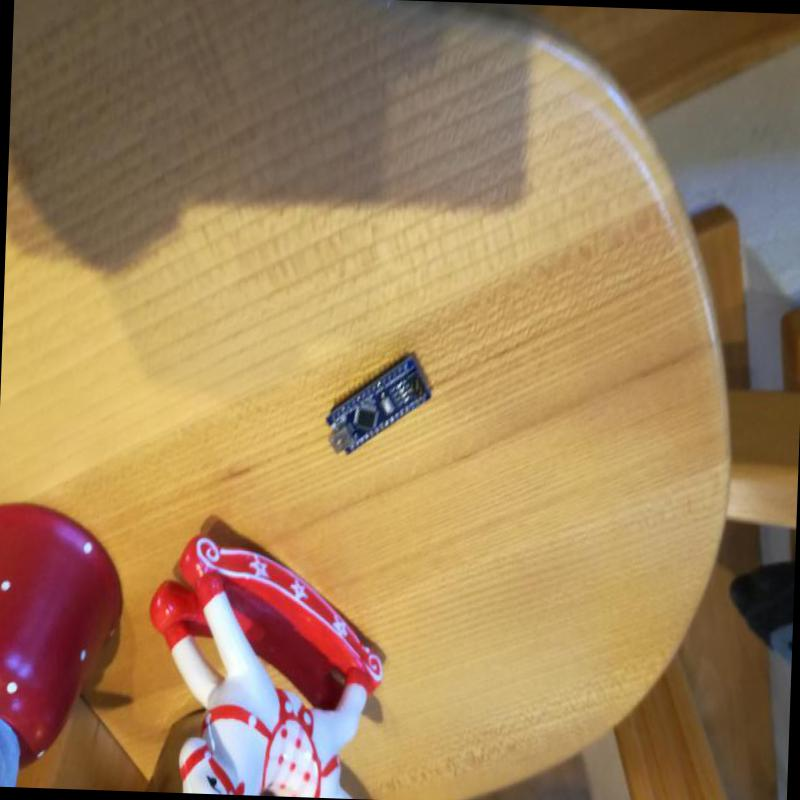Arduino_Nano: (323, 351, 440, 464)
